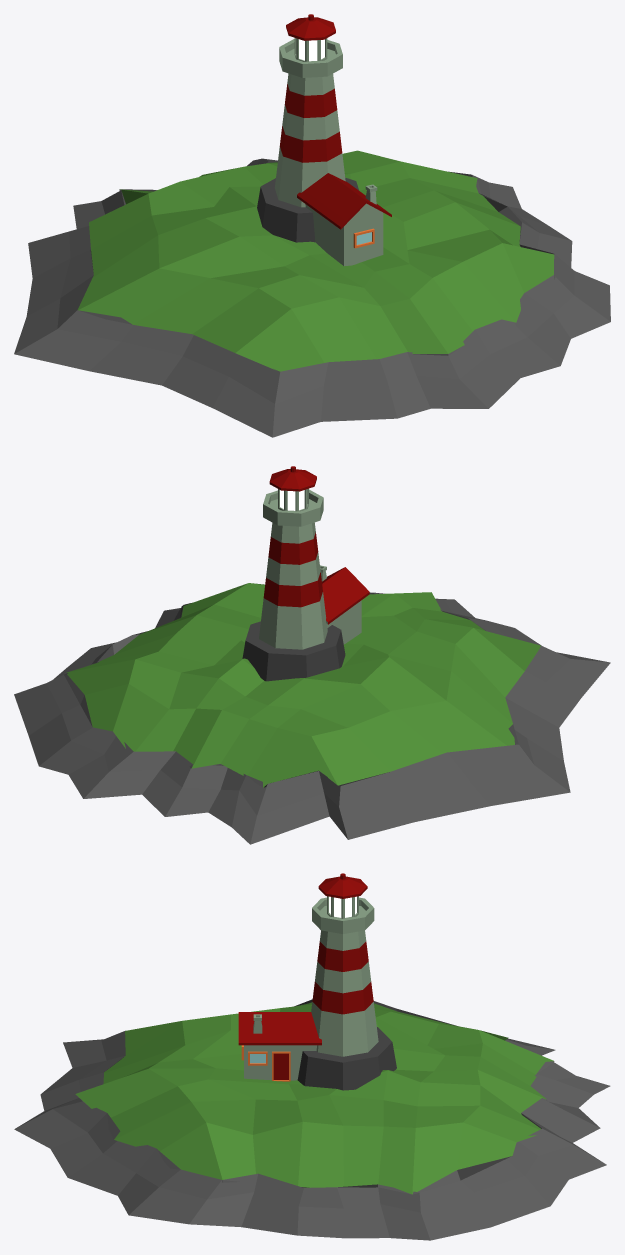
File: faro3.fbx
3 renders of one model, top to bottom at view 1: azimuth 30°, elevation 25°; view 2: azimuth 150°, elevation 25°; view 3: azimuth 270°, elevation 25°, orthographic. The views are drawn at different scales.
Visible parts, largest first — view 1: Isla, Faro, Casita; view 2: Isla, Faro, Casita; view 3: Isla, Faro, Casita.
Part boxes in pixels (box(x1,y1,x2,y2)): Isla: box(14, 150, 610, 437); Faro: box(257, 14, 358, 242); Casita: box(297, 173, 391, 265); Isla: box(14, 583, 610, 844); Faro: box(242, 466, 345, 681); Casita: box(320, 565, 369, 644); Isla: box(14, 999, 610, 1240); Faro: box(297, 873, 396, 1090); Casita: box(238, 1012, 321, 1081).
Size of the model in its own units: 1070 by 518 by 1078.
